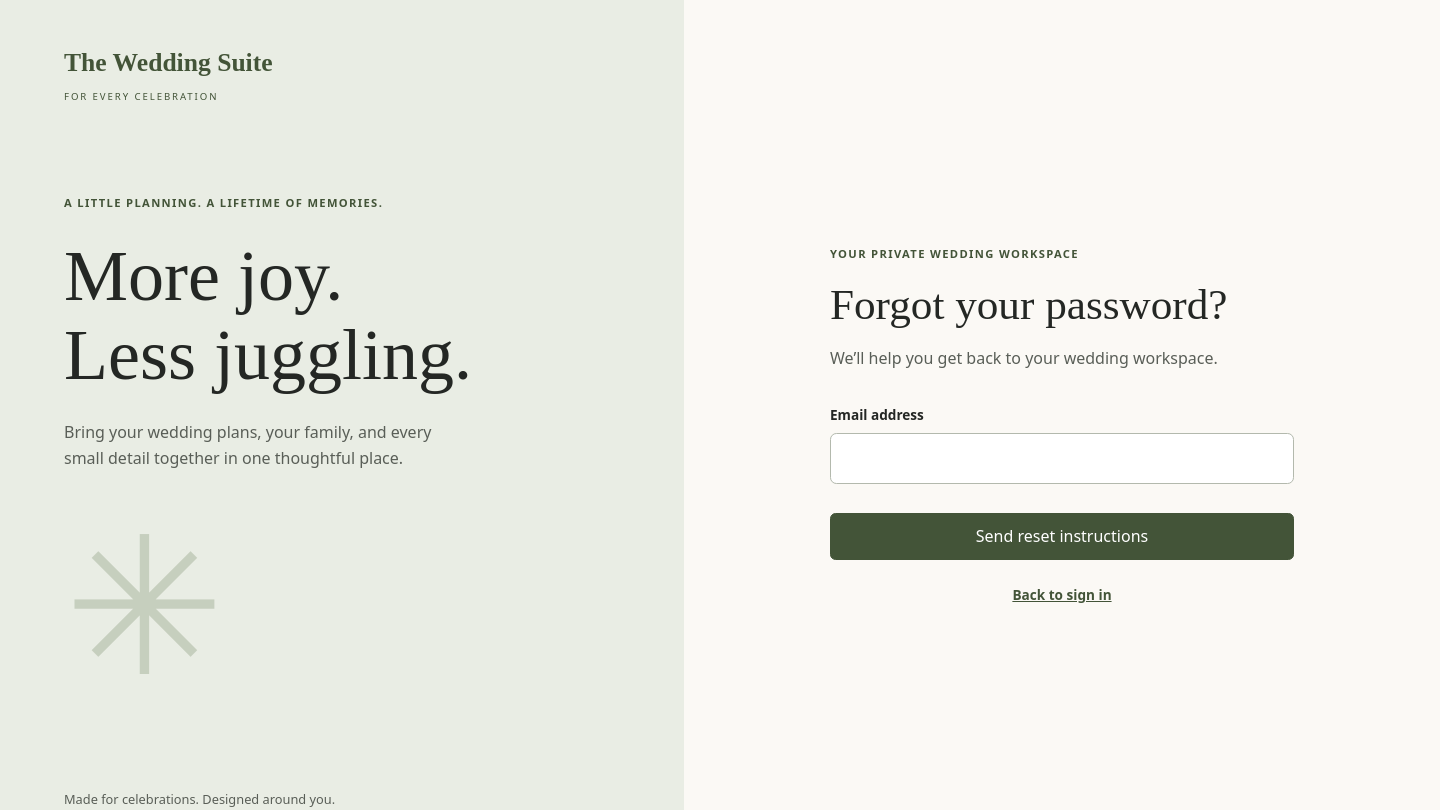
Test: team and recovery screens › validates recovery email and shows generic completion
Click the button "Send reset instructions".
click(1062, 537)  # box 830,513 -> 1294,560
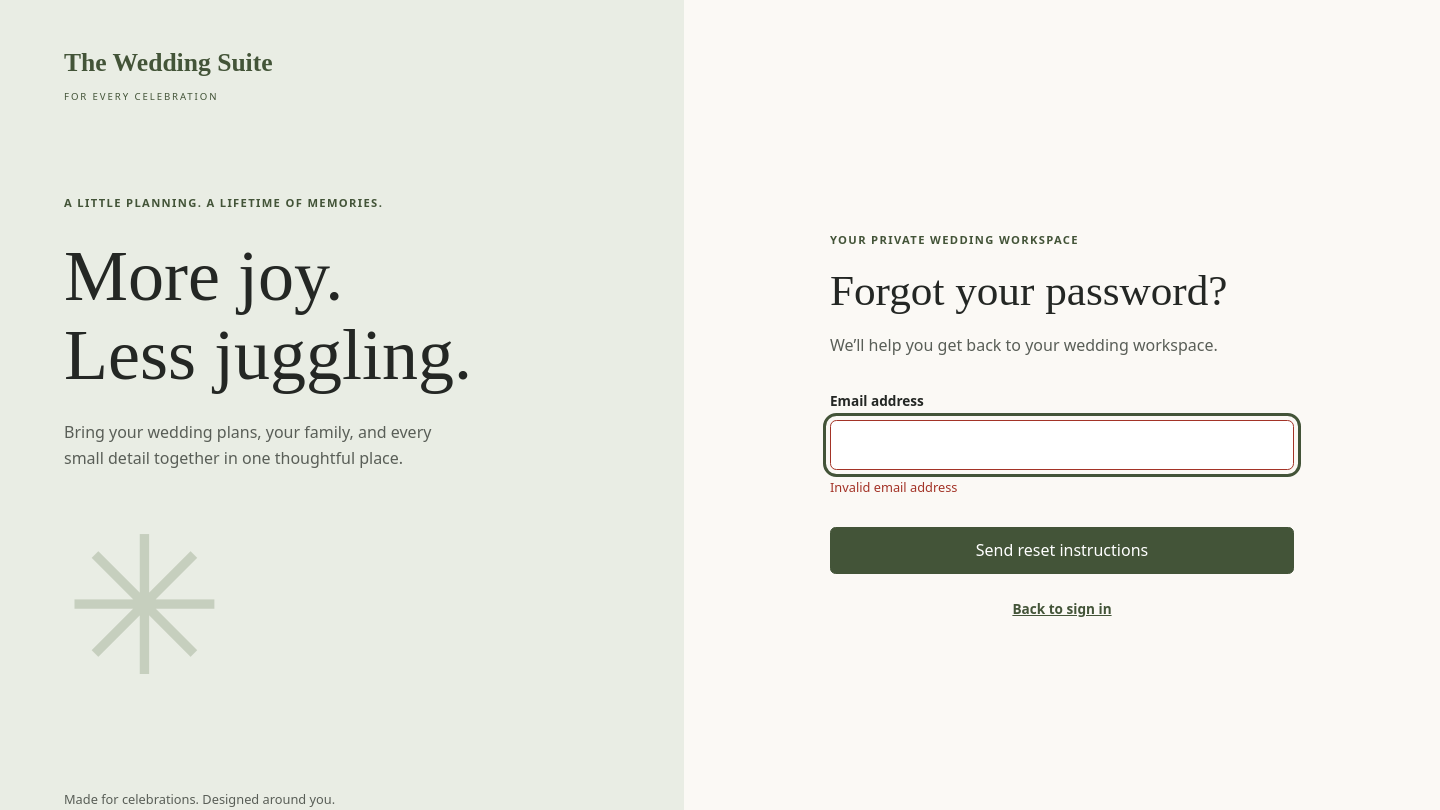
Check: the message "Invalid email address" is shown, box 830,478 -> 958,496
Type "unknown@example.test" into the field labelled "Email address".
click(1062, 445); type("unknown@example.test")  # box 830,420 -> 1294,470
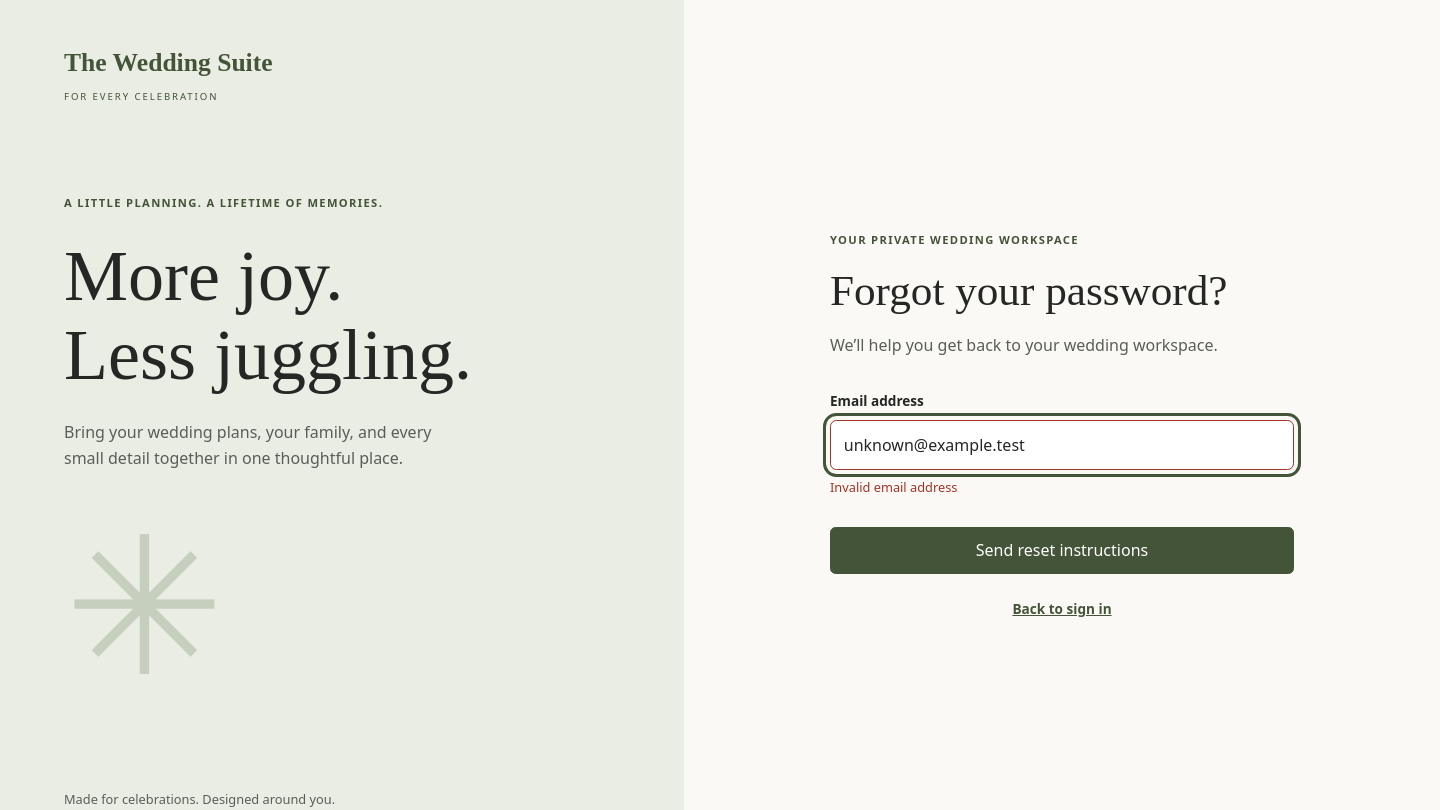
Click the button "Send reset instructions".
click(1062, 550)  # box 830,527 -> 1294,574
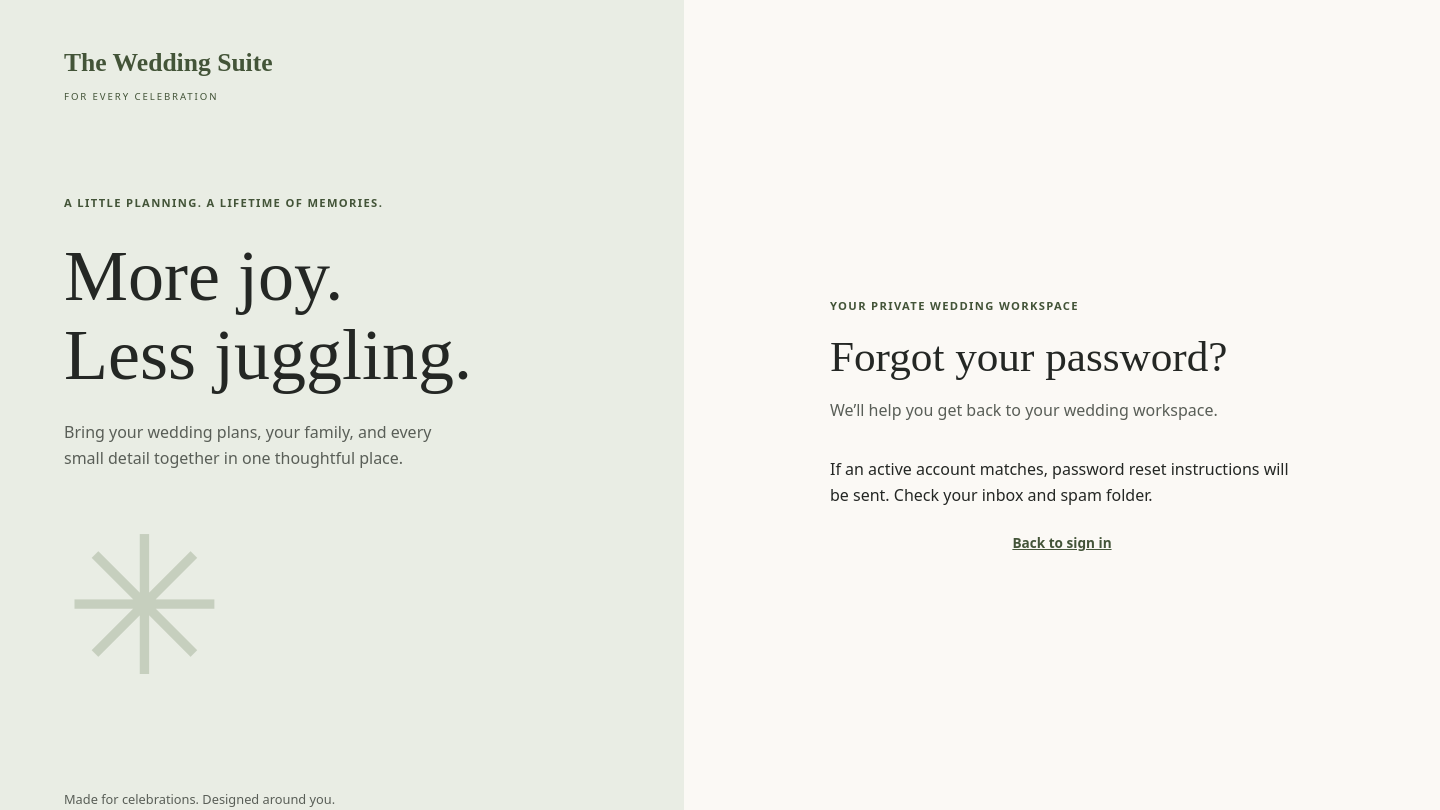
Check: the message shows "If an active account matches", box 830,458 -> 1289,506
